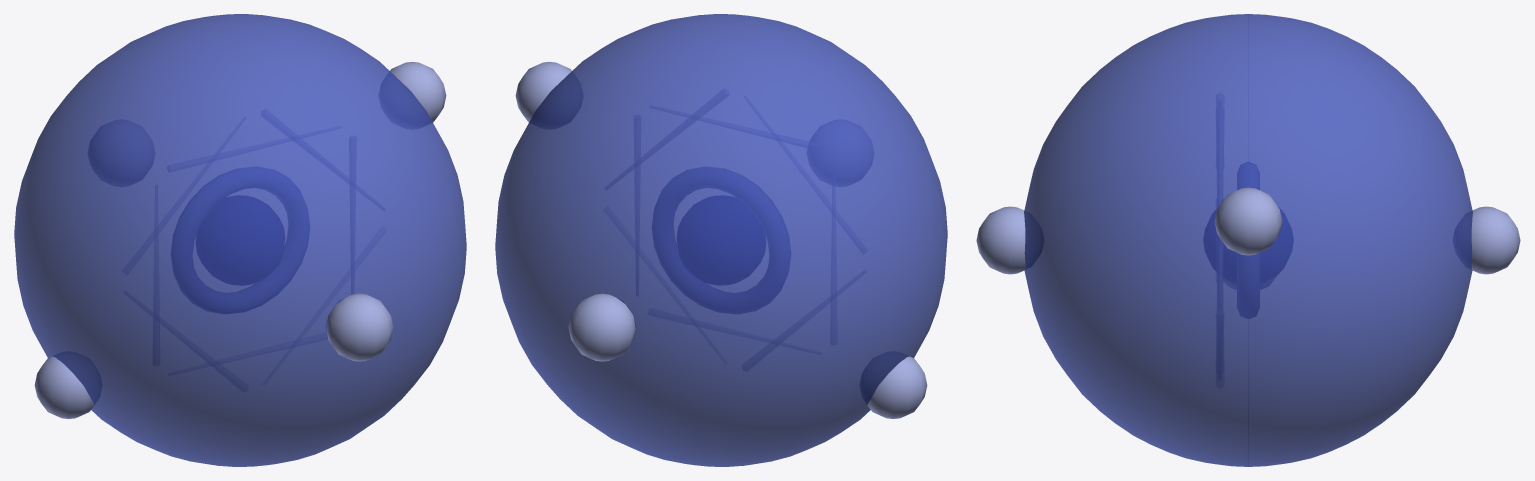
Rendered from cil-eye.glb.
3 views of the same model, side by side, from view 1: azimuth 30°, elevation 25°; view 2: azimuth 150°, elevation 25°; view 3: azimuth 270°, elevation 25° (orthographic).
Size of the model in its own units: 0.82 by 0.8 by 0.96.
